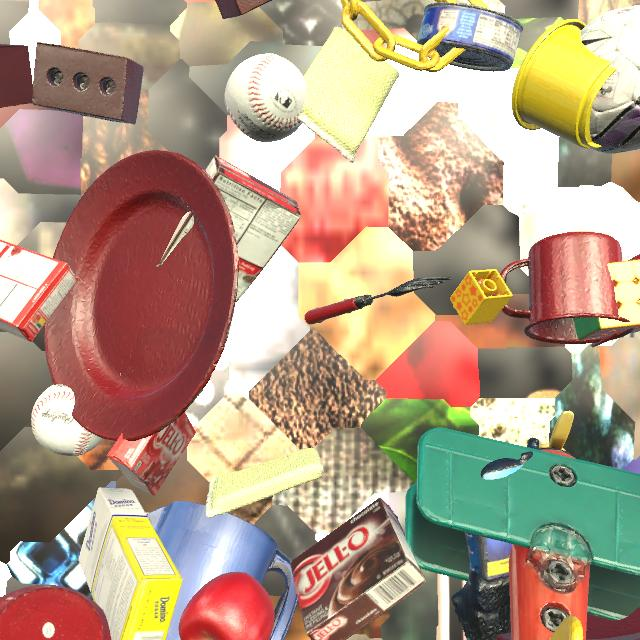ycb_004_sugar_box: (79, 487, 183, 640)
ycb_007_tuna_fish_can: (417, 2, 523, 72)
ycb_008_pudding_box: (156, 155, 301, 302), (290, 498, 426, 640)
ycb_009_gelatin_box: (0, 240, 78, 342), (107, 412, 196, 496)
ycb_013_apple: (179, 572, 274, 640)
